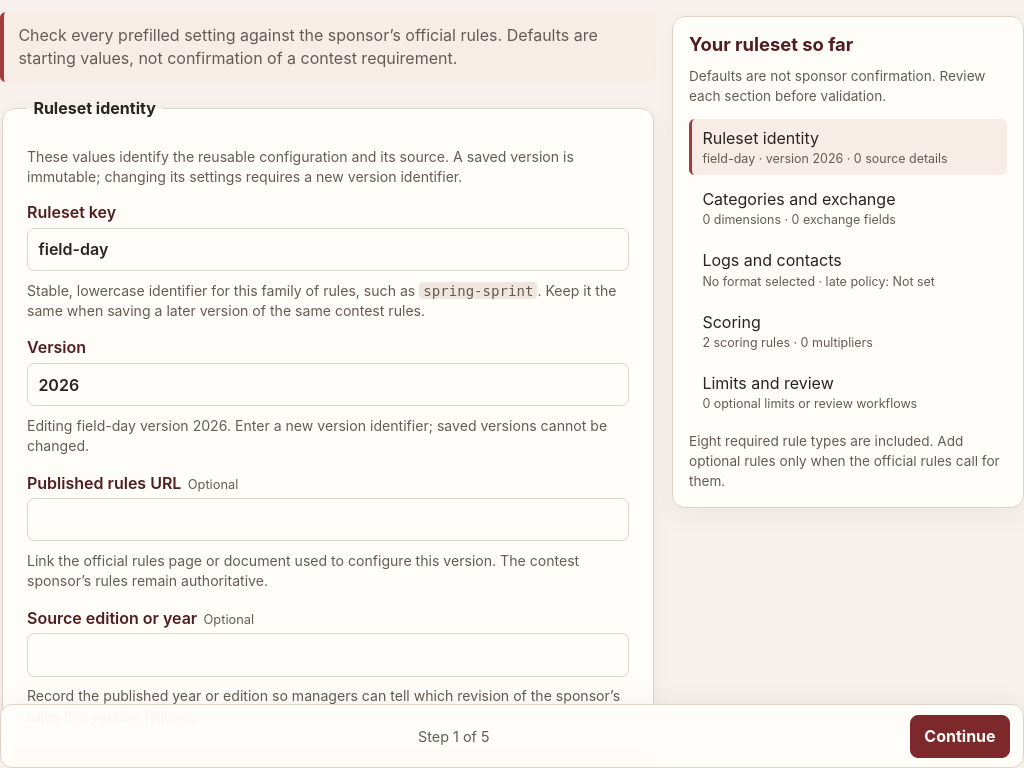
Test: RulesetComposerView › loads a saved version for editing and saves a separate version
(page scrolled)
Expected: the 1st field holds "field-day", x1=27 y1=228 x2=629 y2=271
Replace the text in the 2nd field with "2026-revised" at (328, 385), box x1=27 y1=363 x2=629 y2=406
(page scrolled)
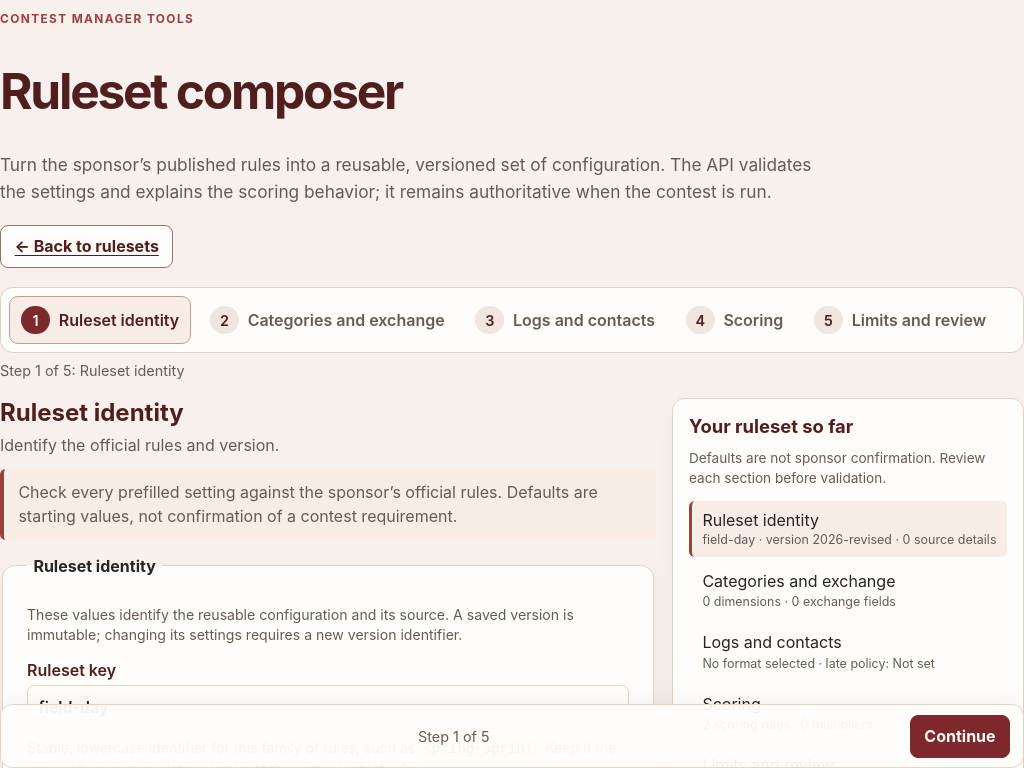
Click the button "5 Limits and review" at (900, 320), box x1=802 y1=296 x2=998 y2=344
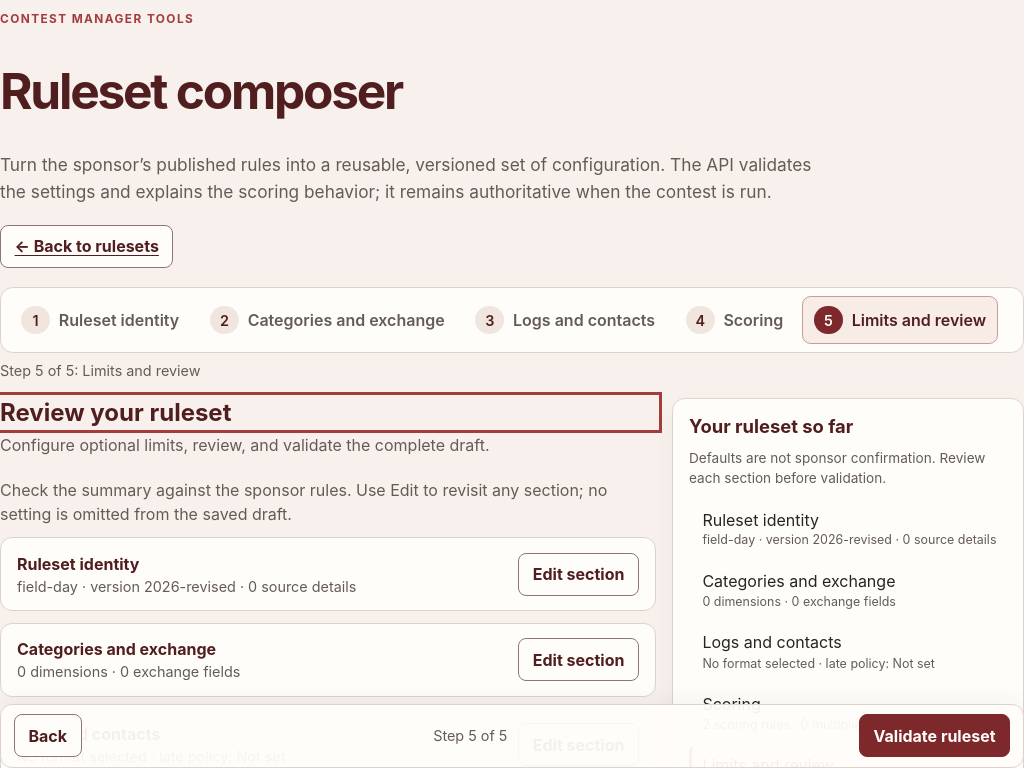
Click the button "Validate ruleset" at (935, 736), box x1=859 y1=714 x2=1010 y2=758
(page scrolled)
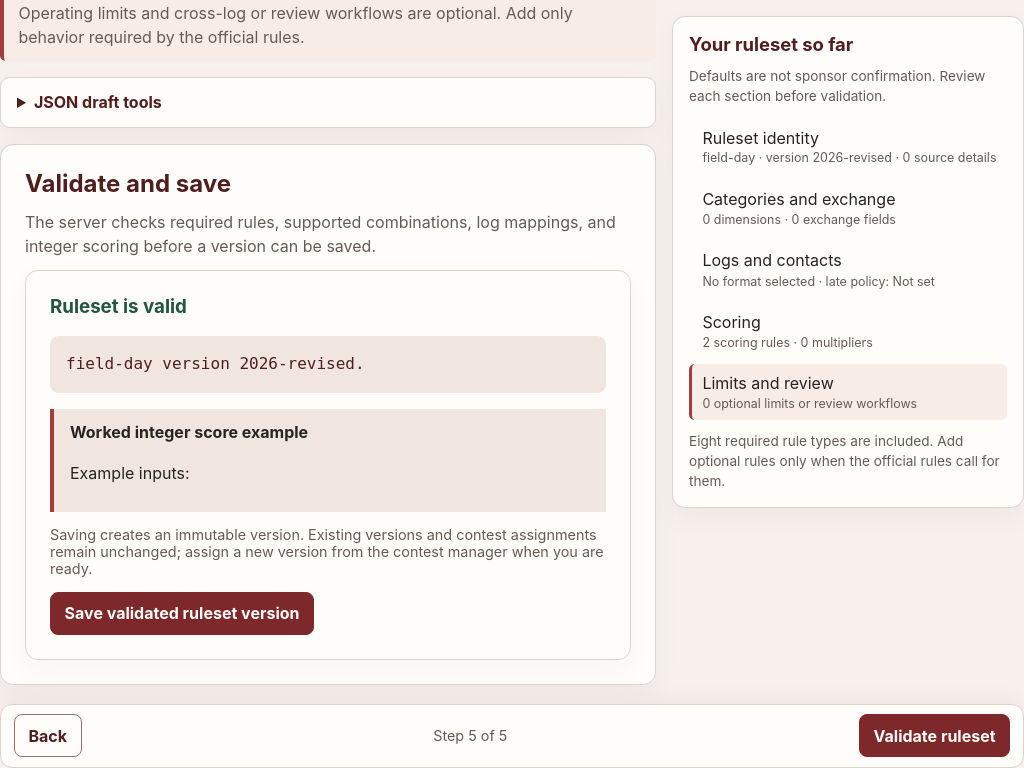
Click the button "Save validated ruleset version" at (182, 613), box x1=50 y1=592 x2=314 y2=635
(page scrolled)
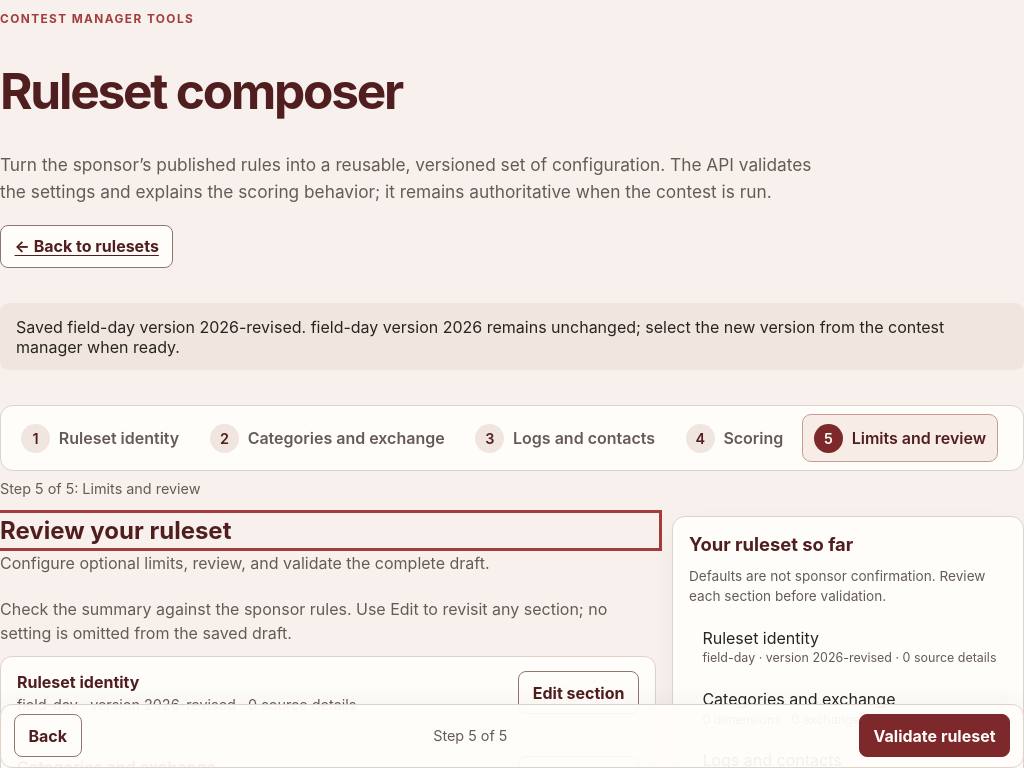
Expected: the 1st message shows "field-day version 2026 remains unchanged", x1=16 y1=317 x2=944 y2=357
